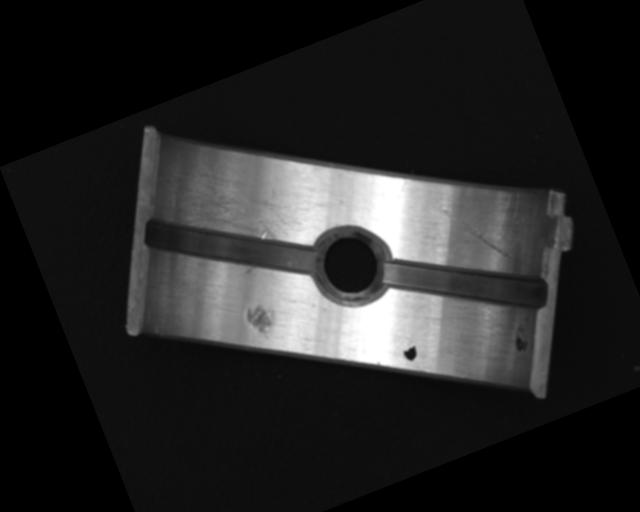blot: (510, 326, 531, 354), (400, 339, 420, 364)
bruise: (242, 301, 279, 344)
gap: (139, 169, 321, 326), (378, 211, 553, 358)
hole: (302, 216, 400, 318)
nick: (436, 188, 513, 279)
scratch: (165, 147, 305, 283)
